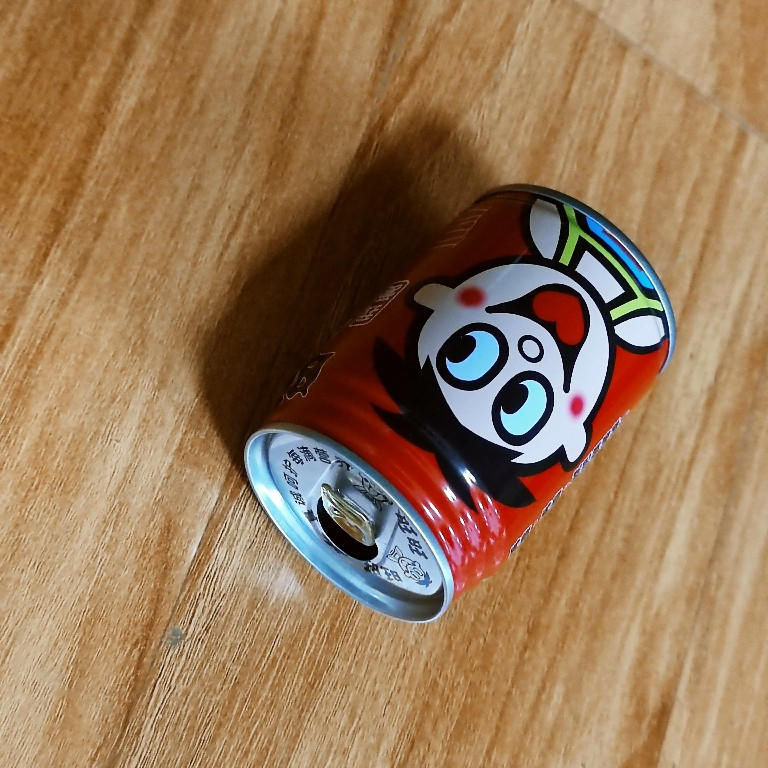can: (235, 181, 681, 628)
